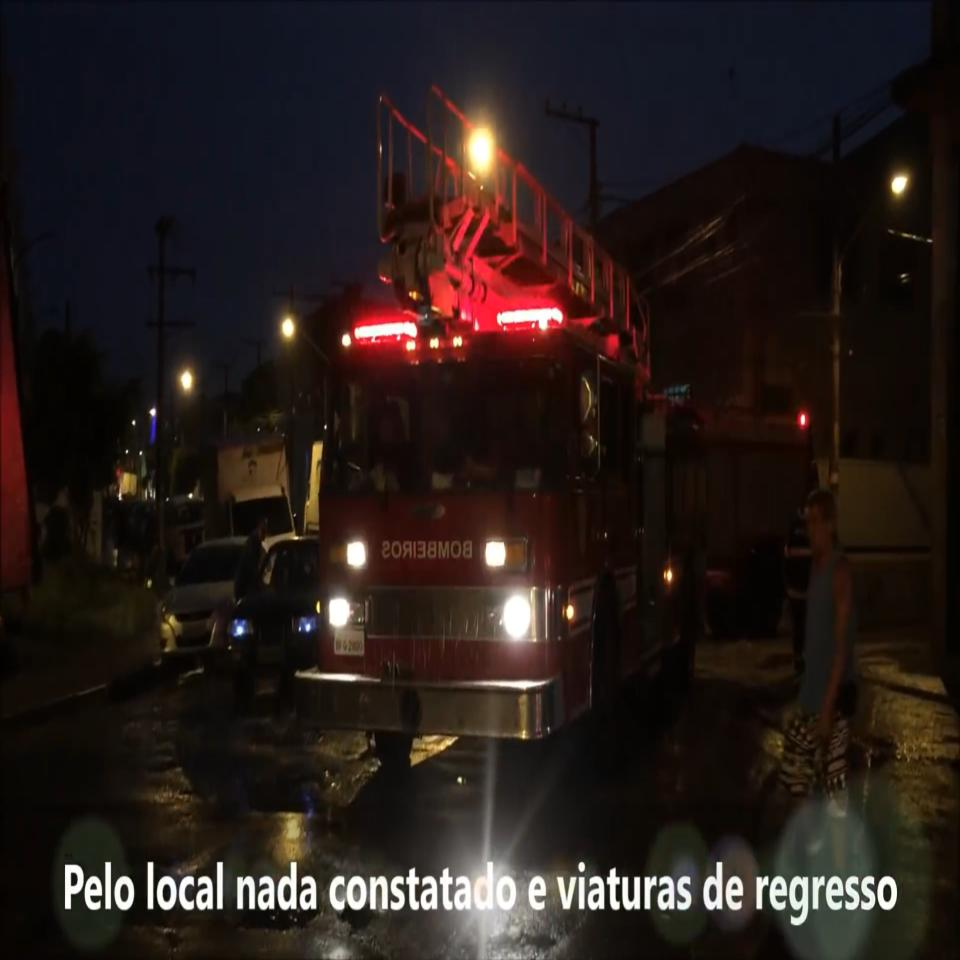viatura: (312, 83, 712, 768)
